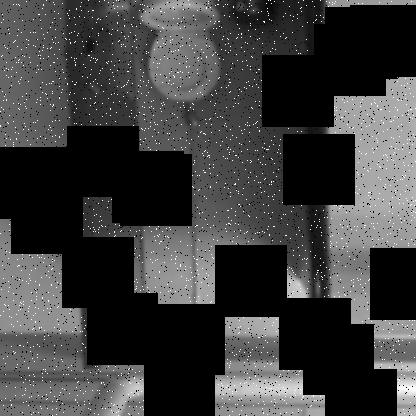Porte: (63, 0, 332, 369)
